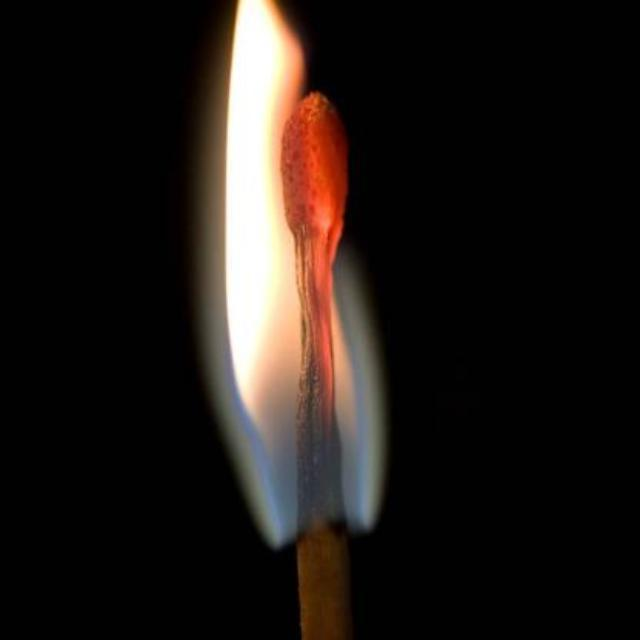Fire: (232, 2, 376, 540)
